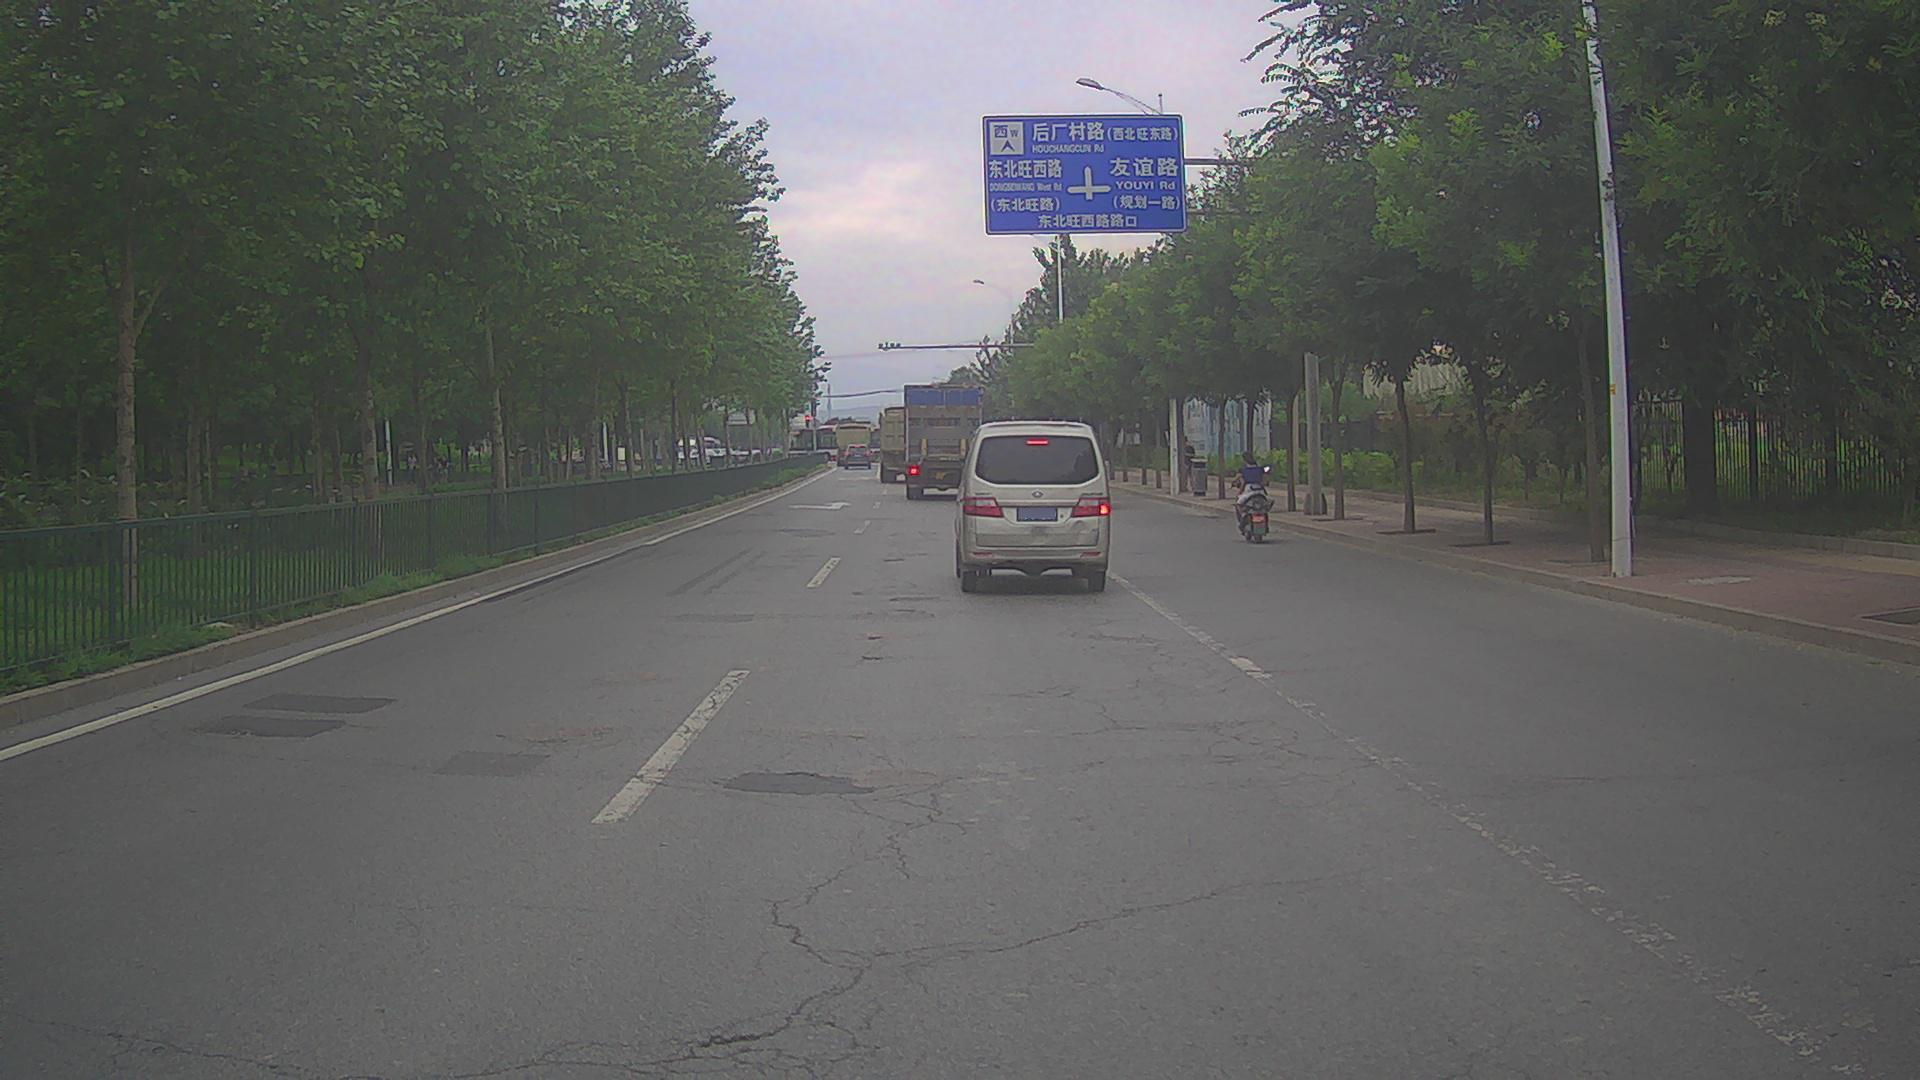bus: (788, 425, 879, 464)
car: (843, 443, 871, 470)
ignore: (677, 437, 760, 463)
motorcyclist: (1229, 451, 1272, 542)
pedestrian: (1177, 435, 1196, 489), (428, 457, 439, 492), (438, 455, 450, 484), (406, 451, 417, 483)
truck: (904, 385, 984, 498), (879, 405, 936, 483), (835, 423, 871, 466)
van: (941, 421, 1111, 592)
